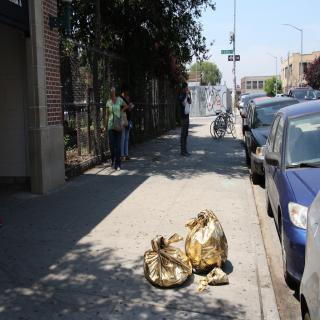Garbage: (184, 207, 230, 273), (142, 236, 192, 284), (203, 265, 232, 288)
